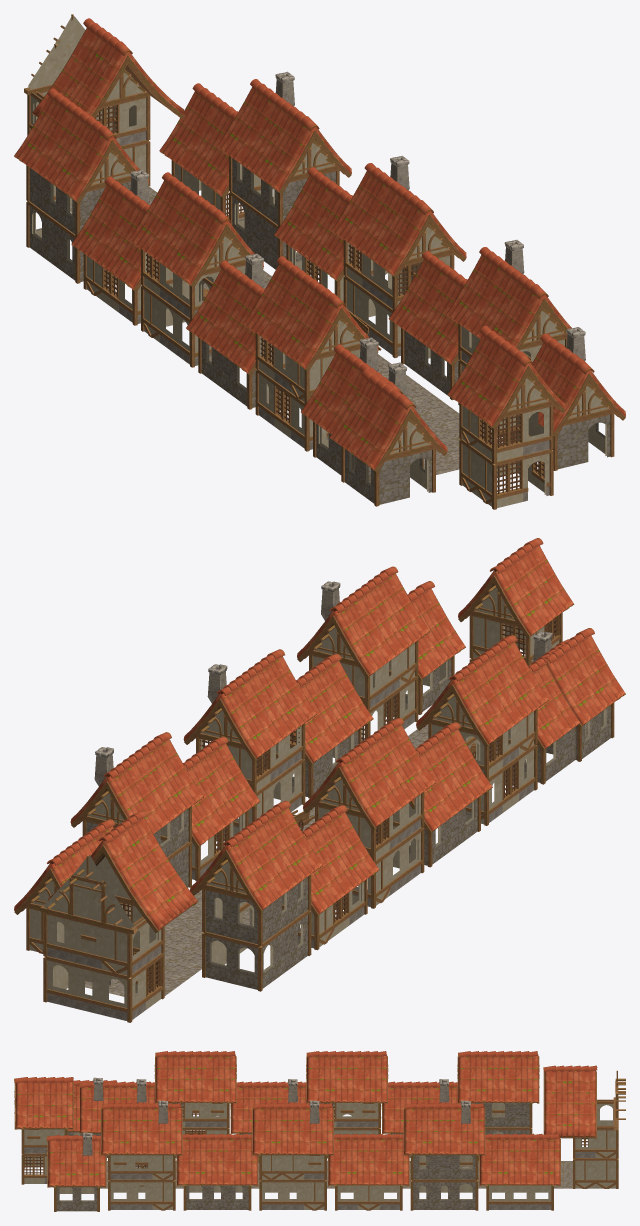
File: medieval-village.glb
3 views of the same model, one above another, from view 1: azimuth 30°, elevation 25°; view 2: azimuth 150°, elevation 25°; view 3: azimuth 270°, elevation 25° (orthographic). The views are drawn at different scales.
Visible parts, largest first — view 1: Roof_RoundTiles_4x6 (×12), Roof_RoundTiles_4x4 (×3), Roof_Front_Brick4 (×9), Roof_RoundTiles_6x4, Wall_UnevenBrick_Straight (×4), Wall_Plaster_WoodGrid (×3), Roof_Front_Brick6 (×2), Wall_Plaster_Straight (×3), Wall_Plaster_Window_Thin_Round (×2), Wall_Plaster_Window_Wide_Round, Wall_Plaster_Door_Round; view 2: Roof_RoundTiles_4x6 (×12), Roof_RoundTiles_4x4 (×3), Roof_RoundTiles_6x4, Roof_Front_Brick4 (×7), Roof_Front_Brick6, Wall_Plaster_Window_Wide_Round (×4), Wall_Plaster_Window_Thin_Round (×3), Wall_UnevenBrick_Window_Wide_Round (×3), Wall_Plaster_Straight (×2), Wall_UnevenBrick_Window_Thin_Round (×2), Wall_Plaster_WoodGrid (×2), Wall_UnevenBrick_Straight; view 3: Roof_RoundTiles_4x6 (×12), Roof_RoundTiles_4x4 (×3), Wall_Plaster_Window_Wide_Round (×15), Wall_Plaster_Straight (×9), Roof_RoundTiles_6x4, Wall_UnevenBrick_Window_Thin_Round (×5), Wall_UnevenBrick_Window_Wide_Round (×6), Wall_Plaster_Window_Thin_Round (×4), Wall_UnevenBrick_Straight (×2), Wall_Plaster_WoodGrid, Roof_Front_Brick6, Prop_Chimney.
Boxes of the visible parts, box(x1,y1,x2,y2) form: Roof_RoundTiles_4x6 (×12): box(14, 79, 571, 434); Roof_RoundTiles_4x4 (×3): box(329, 326, 625, 472); Roof_Front_Brick4 (×9): box(88, 140, 612, 459); Roof_RoundTiles_6x4: box(32, 18, 184, 118); Wall_UnevenBrick_Straight (×4): box(44, 203, 584, 504); Wall_Plaster_WoodGrid (×3): box(273, 380, 523, 507); Roof_Front_Brick6 (×2): box(24, 14, 150, 106); Wall_Plaster_Straight (×3): box(142, 285, 497, 506); Wall_Plaster_Window_Thin_Round (×2): box(119, 96, 274, 425); Wall_Plaster_Window_Wide_Round: box(523, 405, 550, 455); Wall_Plaster_Door_Round: box(523, 449, 551, 501); Roof_RoundTiles_4x6 (×12): box(14, 566, 580, 916); Roof_RoundTiles_4x4 (×3): box(407, 538, 625, 727); Roof_RoundTiles_6x4: box(48, 810, 198, 932); Roof_Front_Brick4 (×7): box(84, 585, 518, 899); Roof_Front_Brick6: box(40, 855, 137, 934); Wall_Plaster_Window_Wide_Round (×4): box(45, 838, 406, 1020); Wall_Plaster_Window_Thin_Round (×3): box(46, 744, 536, 1014); Wall_UnevenBrick_Window_Wide_Round (×3): box(203, 895, 260, 989); Wall_Plaster_Straight (×2): box(101, 615, 499, 975); Wall_UnevenBrick_Window_Thin_Round (×2): box(205, 888, 309, 966); Wall_Plaster_WoodGrid (×2): box(146, 755, 520, 1009); Wall_UnevenBrick_Straight: box(276, 921, 293, 978); Roof_RoundTiles_4x6 (×12): box(79, 1051, 560, 1186); Roof_RoundTiles_4x4 (×3): box(14, 1077, 116, 1187); Wall_Plaster_Window_Wide_Round (×15): box(24, 1099, 613, 1209); Wall_Plaster_Straight (×9): box(152, 1126, 617, 1210); Roof_RoundTiles_6x4: box(543, 1065, 597, 1138); Wall_UnevenBrick_Window_Thin_Round (×5): box(206, 1155, 455, 1209); Wall_UnevenBrick_Window_Wide_Round (×6): box(56, 1103, 509, 1211); Wall_Plaster_Window_Thin_Round (×4): box(131, 1103, 595, 1209); Wall_UnevenBrick_Straight (×2): box(433, 1103, 529, 1179); Wall_Plaster_WoodGrid: box(23, 1153, 44, 1183); Roof_Front_Brick6: box(613, 1070, 625, 1130); Prop_Chimney: box(136, 1079, 146, 1102).
Size of the model in its own units: 17.51 by 11.16 by 56.62.
Materials: 7 (7 with a texture image).
